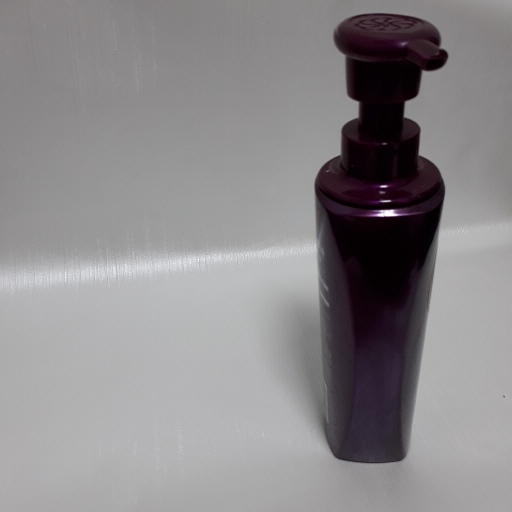Plastic_3: (310, 16, 451, 462)
